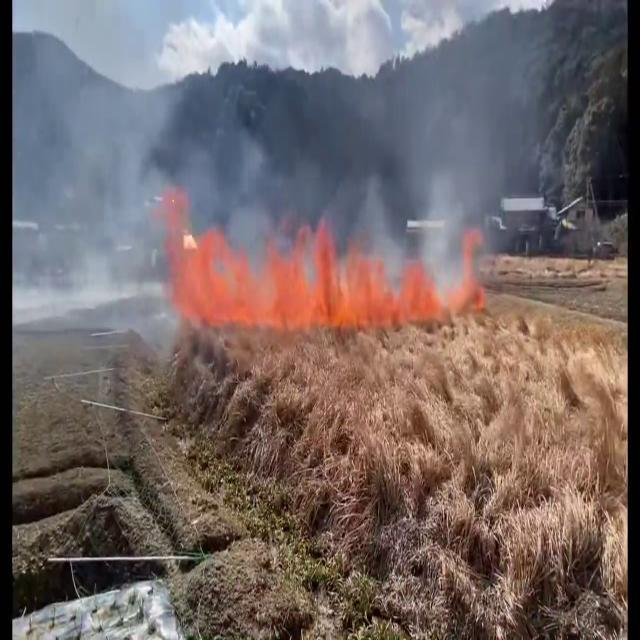Fire: (156, 207, 442, 334)
Smoke: (39, 14, 560, 338)
